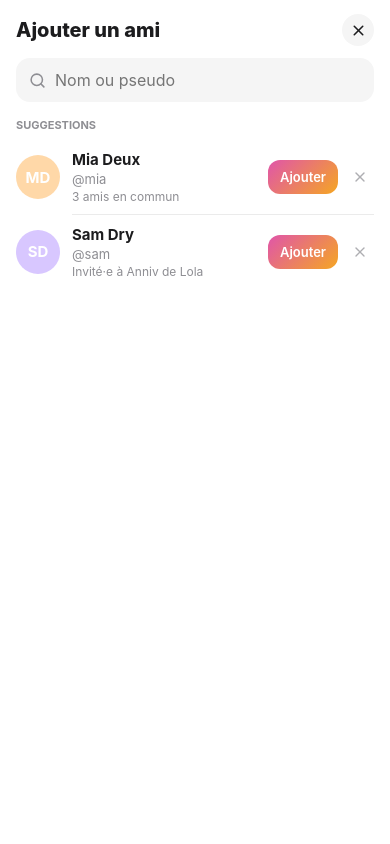
Test: FriendSearchSheet › recherche à partir de 2 caractères, amis marqués « Ami »
Expected: the text "Mia Deux" is shown, [72,150,140,169]
Type "f" into the field named "Rechercher un nom ou un pseudo". click: x=208, y=80
box: [55,70,361,90]
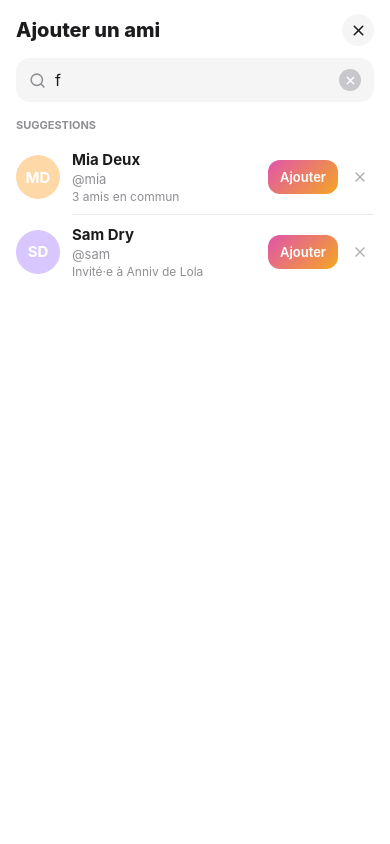
Expected: the text "Mia Deux" is shown, [72,150,140,169]
Replace the text in the field named "Rechercher un nom ou un pseudo" with "fa". click: x=192, y=80
box: [55,70,330,90]
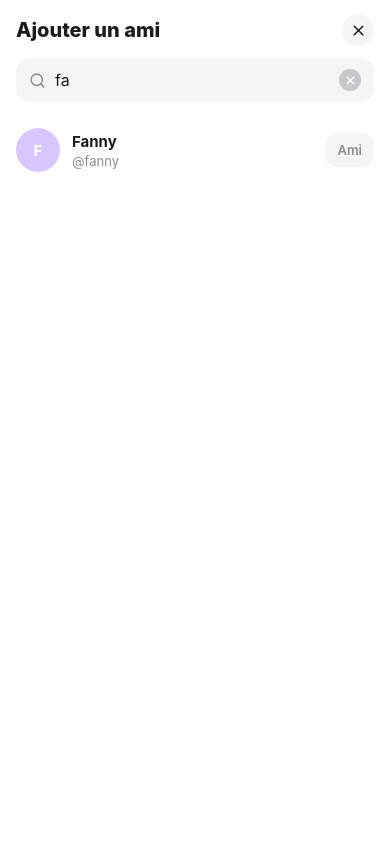
Expected: the button "Ami" is disabled, [325,133,374,167]
Result: the text "Fanny" is shown at [72,132,117,150]
Result: the text "Mia Deux" is gone
